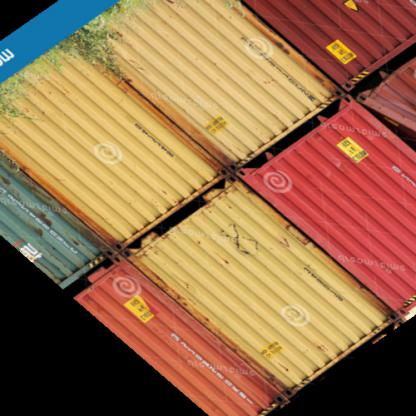Damage: (52, 34, 130, 78)
